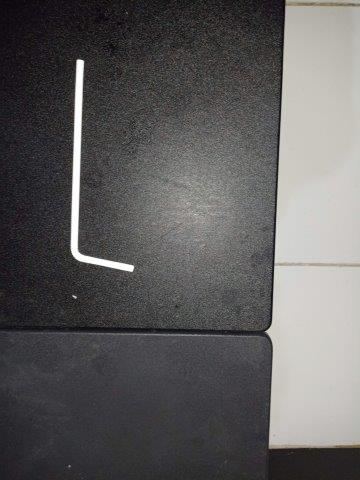sedotan: (70, 60, 134, 272)
